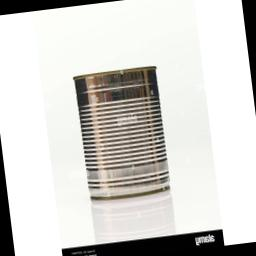metal: (44, 52, 188, 214)
